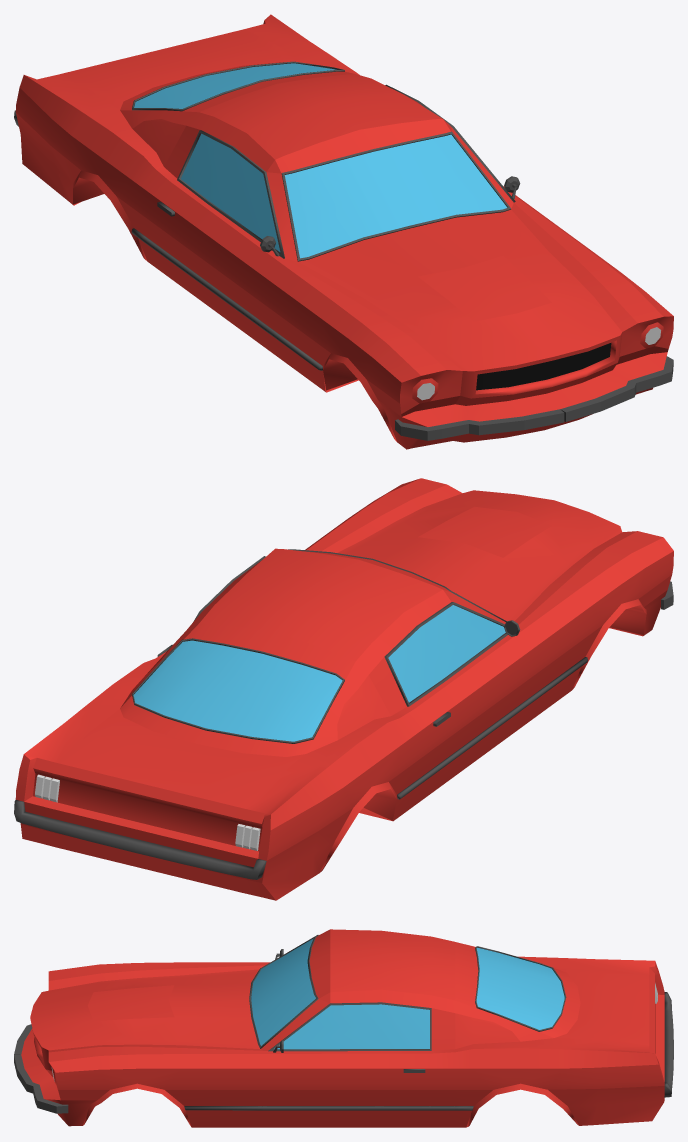
The model's file is Car.fbx.
3 renders of one model, top to bottom at view 1: azimuth 30°, elevation 25°; view 2: azimuth 150°, elevation 25°; view 3: azimuth 270°, elevation 25°, orthographic. The views are drawn at different scales.
Visible parts, largest first — view 1: main_body; view 2: main_body; view 3: main_body.
Part boxes in pixels (bbox=[...]): main_body: bbox=[14, 14, 673, 449]; main_body: bbox=[14, 478, 673, 900]; main_body: bbox=[14, 929, 673, 1127].
Size of the model in its own units: 133 by 75.09 by 349.
